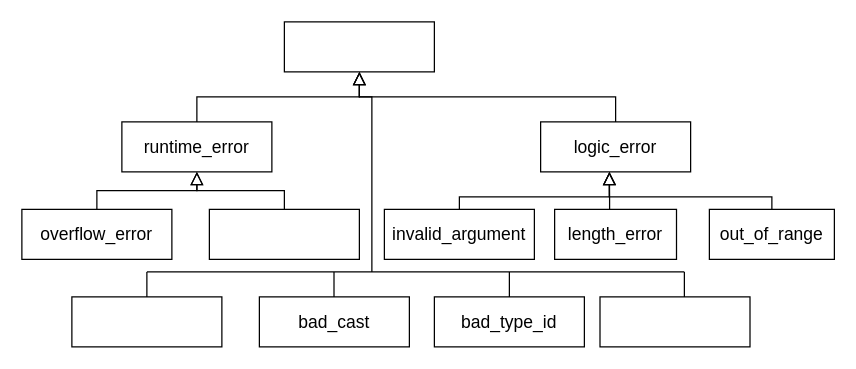
This 856x369 diagram has some shape labels left out. The centre of each missing label's shape, as x and y in pixels:
"bad_alloc" belongs at point 146,321.
"bad_exception" belongs at point 674,321.
"exception" belongs at point 358,46.
"underflow_error" belongs at point 283,233.
